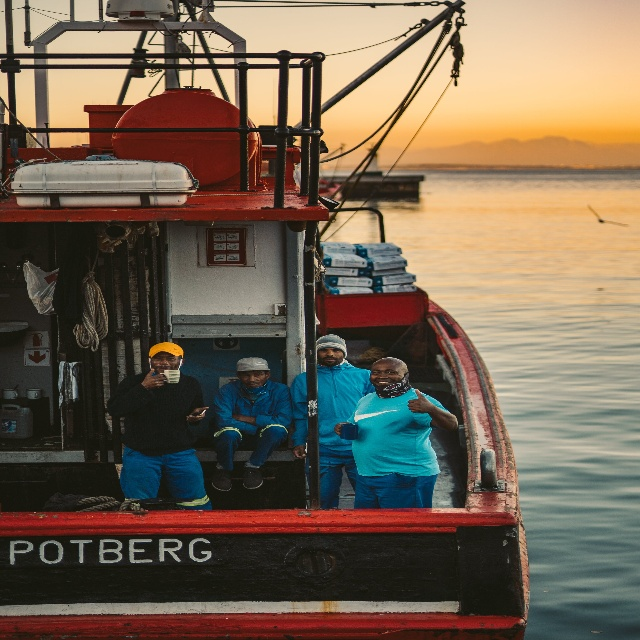Sin_guantes: (407, 389, 431, 414), (144, 368, 166, 390), (186, 406, 208, 424), (334, 421, 350, 437), (292, 444, 306, 459), (232, 414, 247, 422)
